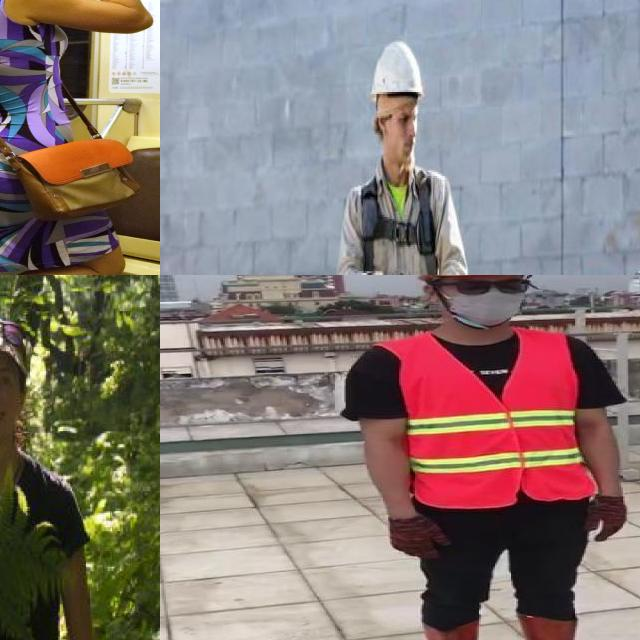Harness: (361, 173, 436, 275)
boots: (516, 611, 612, 640), (422, 619, 484, 640)
face_nomask: (0, 366, 20, 428)
glasses: (0, 293, 100, 640), (0, 306, 30, 367)
person: (337, 275, 635, 640)
vest: (400, 333, 590, 505)
